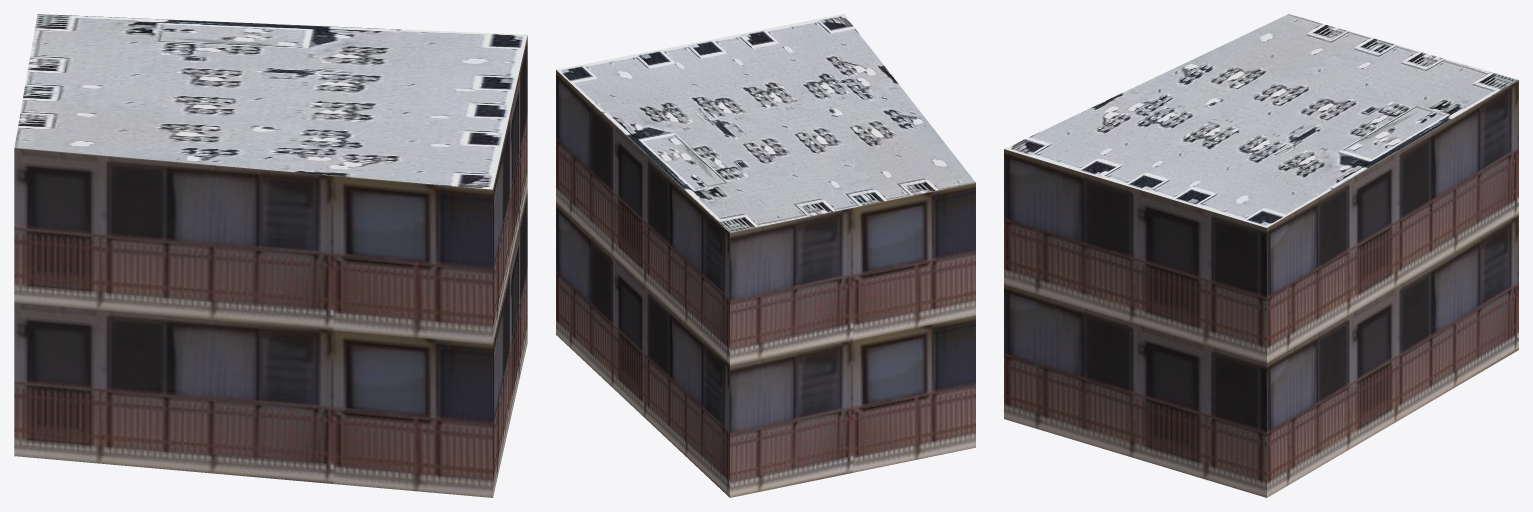
File: ResTex__3233.fbx
3 renders of one model, left to right at view 1: azimuth 30°, elevation 25°; view 2: azimuth 150°, elevation 25°; view 3: azimuth 270°, elevation 25°, orthographic. The views are drawn at different scales.
Parts seen in each view (by area): view 1: CityEngineMaterial_6_m, CityEngineMaterial_m; view 2: CityEngineMaterial_6_m, CityEngineMaterial_m; view 3: CityEngineMaterial_6_m, CityEngineMaterial_m.
Part boxes in pixels (x1=…): CityEngineMaterial_6_m: x1=14, y1=35, x2=527, y2=497; CityEngineMaterial_m: x1=14, y1=14, x2=527, y2=189; CityEngineMaterial_6_m: x1=556, y1=70, x2=975, y2=497; CityEngineMaterial_m: x1=556, y1=14, x2=975, y2=232; CityEngineMaterial_6_m: x1=1004, y1=80, x2=1518, y2=497; CityEngineMaterial_m: x1=1004, y1=14, x2=1518, y2=227.
Bounding box in the file's own units: 10.2 × 6 × 10.37.
Materials: 2 (2 with a texture image).
